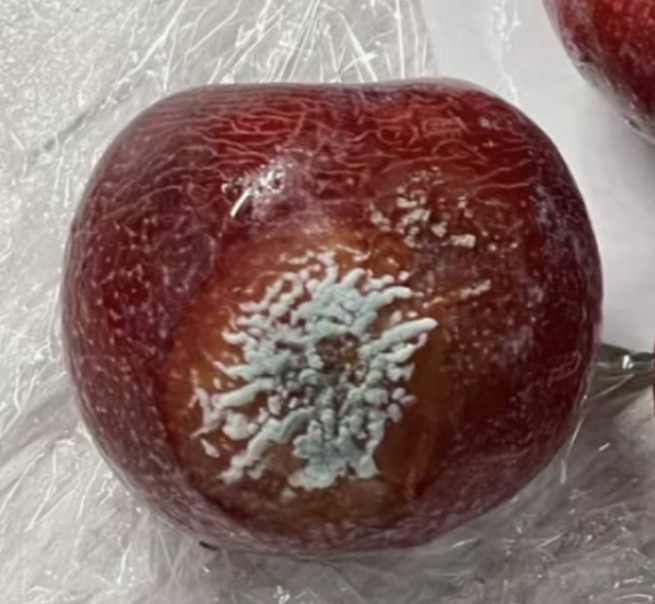plum_C: (63, 77, 604, 558)
